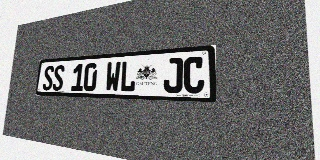0: (83, 63, 98, 91)
1: (71, 64, 85, 91)
C: (183, 56, 204, 94)
J: (163, 57, 183, 93)
L: (120, 60, 137, 92)
S: (52, 65, 65, 91), (42, 65, 54, 91)
W: (105, 61, 121, 92)
